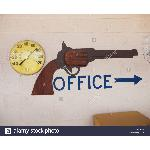Pistol: (31, 39, 139, 96)
